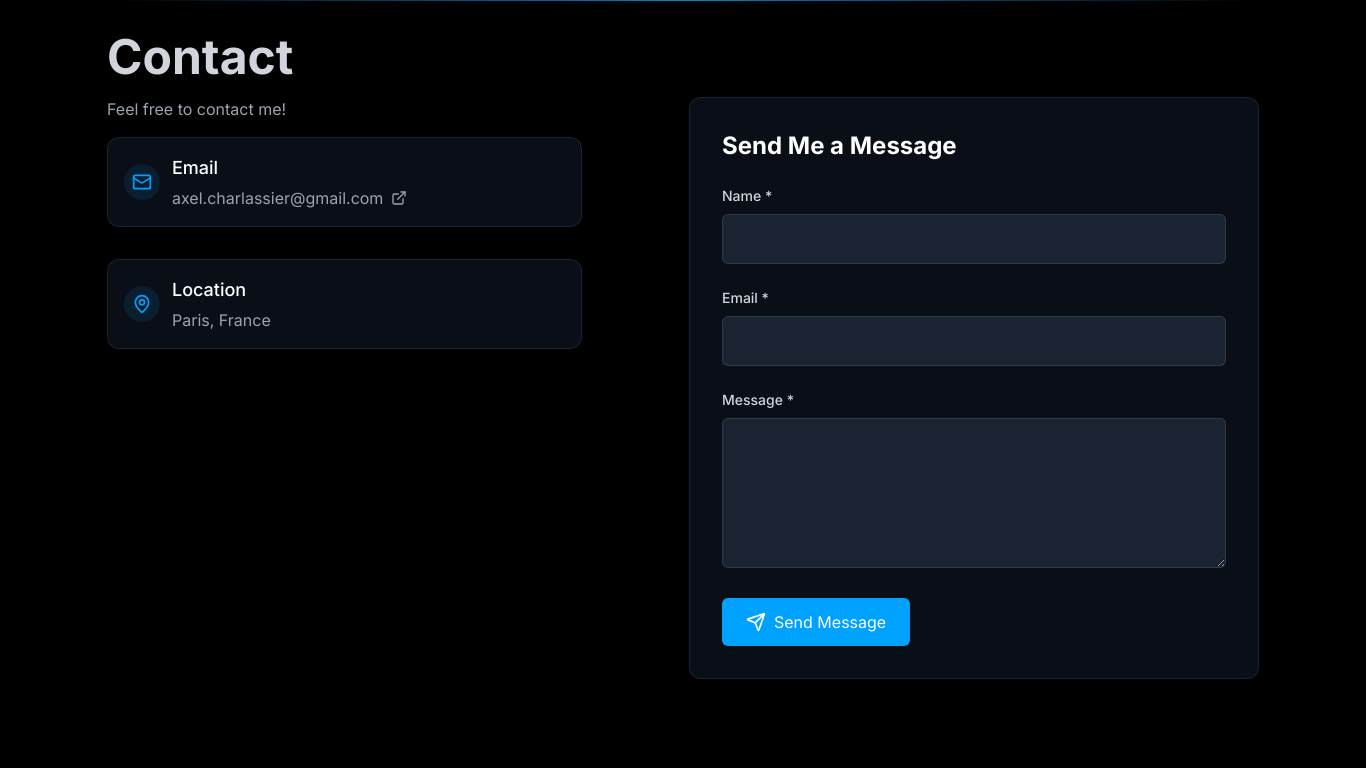
it: Contact Page › validates form fields
The width and height of the screenshot is (1366, 768).
Click the button "Send Message".
click(816, 622)  # box [722, 598, 910, 646]
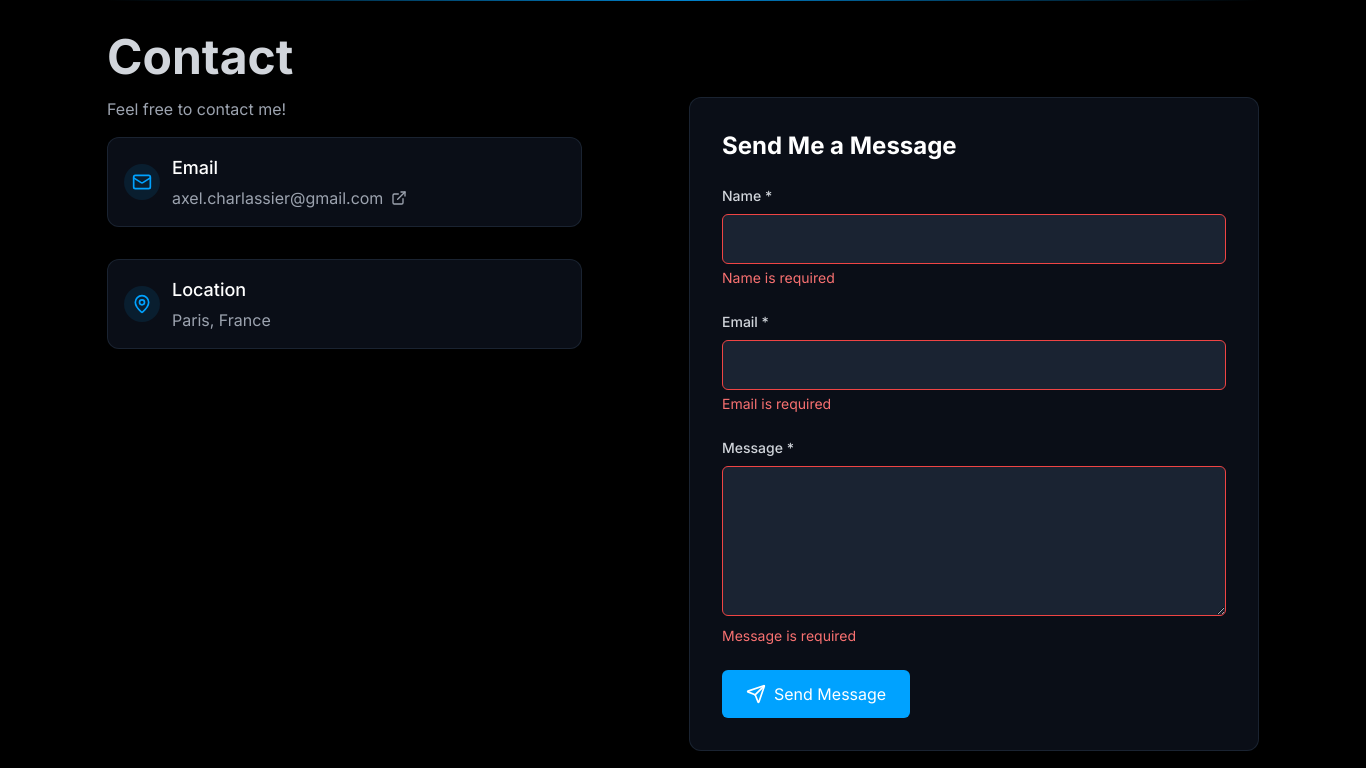
Expected: the text "Name is required" is shown, [722, 269, 835, 286]
Expected: the text "Email is required" is shown, [722, 395, 831, 412]
Expected: the text "Message is required" is shown, [722, 627, 856, 644]
